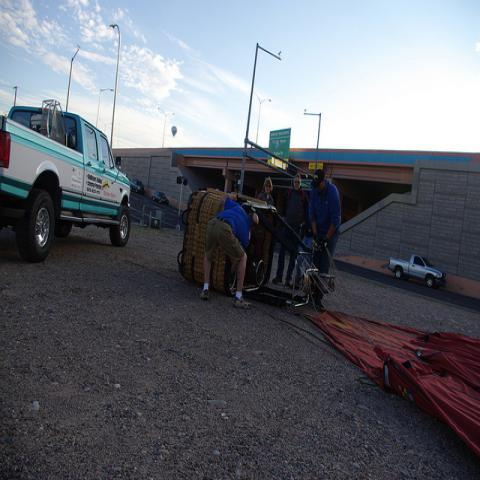car: (151, 191, 169, 207), (130, 179, 146, 195)
truck: (0, 105, 131, 262), (391, 249, 445, 288)
